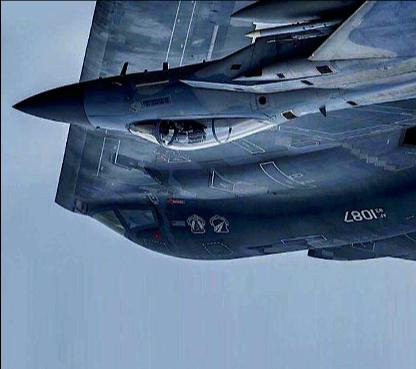B1: (53, 0, 415, 263)
F117: (10, 0, 415, 150)
